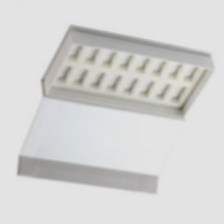book: (10, 22, 220, 200)
